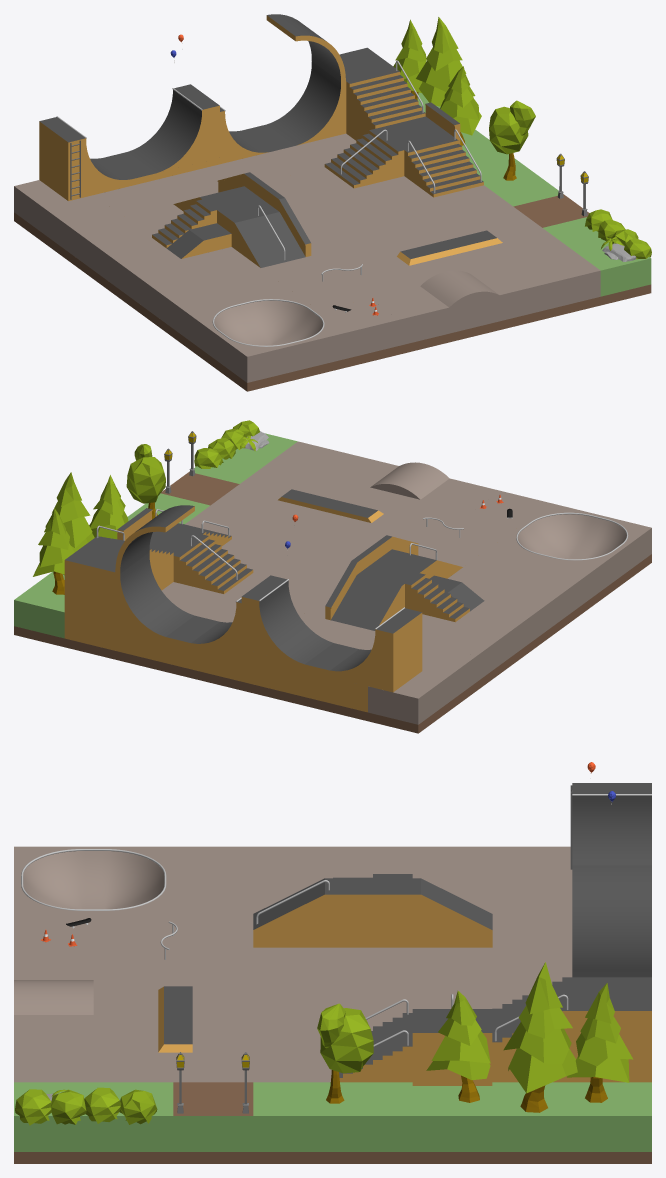
File: Skatepark.fbx
The picture shows the model from 3 angles, top to bottom: view 1: azimuth 30°, elevation 25°; view 2: azimuth 150°, elevation 25°; view 3: azimuth 270°, elevation 25°; orthographic projection. The views are drawn at different scales.
Visible parts, largest first — view 1: Cube, Skate_Box_01 (×3), Skate_Quarter_Pipe_w_Back_Rail_01 (1), Skate_Quarter_Pipe_w_Back_01, Skate_Stairs_Handrail_Double_01, Skate_Stairs_Handrail_Right_01, Skate_Block_Wave_Low_01, Skate_Stairs_Handrail_Middle_01, Skate_Wedge_Handrail_Middle_01, Skate_Box_01 (61), Skate_Box_01 (52), Skate_Box_01 (60) (+55 smaller); view 2: Cube, Skate_Quarter_Pipe_w_Back_Rail_01 (1), Skate_Box_01 (2), Skate_Box_01 (×3), Skate_Quarter_Pipe_w_Back_01, Skate_Wedge_Slide_Rail_01, Skate_Stairs_Handrail_Middle_01, Skate_Box_01 (36), Skate_Bowl_Corner_Rail_01 (1), Skate_Quarter_Pipe_w_Back_Rail_01 (×2), Skate_Box_01 (5), Skate_Stairs_w_Wedge_Half_01 (+58 smaller); view 3: Skate_Loop_Quarter_01, Skate_Box_01 (2) (×2), Cube, Skate_Box_01 (×3), Skate_Quarter_Pipe_w_Back_Rail_01, Skate_Box_01 (48), Skate_Box_01 (47), Skate_Box_01 (45), Vegetation_Modular_Tree_Foliage_Alpine_01 (1), Skate_Box_01 (51), Skate_Box_01 (46), Skate_Box_01 (49) (+55 smaller).
Part boxes in pixels (x1,y1,x2,y2): Cube: (14, 212, 651, 391); Skate_Box_01 (×3): (203, 116, 453, 298); Skate_Quarter_Pipe_w_Back_Rail_01 (1): (128, 87, 207, 172); Skate_Quarter_Pipe_w_Back_01: (267, 61, 346, 145); Skate_Stairs_Handrail_Double_01: (404, 129, 483, 197); Skate_Stairs_Handrail_Right_01: (346, 60, 425, 128); Skate_Block_Wave_Low_01: (420, 270, 499, 333); Skate_Stairs_Handrail_Middle_01: (324, 129, 404, 188); Skate_Wedge_Handrail_Middle_01: (231, 205, 305, 267); Skate_Box_01 (61): (471, 261, 550, 321); Skate_Box_01 (52): (370, 286, 449, 345); Skate_Box_01 (60): (521, 249, 600, 308); Cube: (14, 554, 651, 733); Skate_Quarter_Pipe_w_Back_Rail_01 (1): (254, 578, 333, 664); Skate_Box_01 (2): (64, 539, 121, 624); Skate_Box_01 (×3): (149, 500, 470, 583); Skate_Quarter_Pipe_w_Back_01: (115, 552, 194, 636); Skate_Wedge_Slide_Rail_01: (325, 558, 404, 630); Skate_Stairs_Handrail_Middle_01: (173, 534, 253, 593); Skate_Box_01 (36): (368, 671, 447, 724); Skate_Bowl_Corner_Rail_01 (1): (522, 503, 600, 559); Skate_Quarter_Pipe_w_Back_Rail_01 (×2): (191, 597, 409, 682); Skate_Box_01 (5): (380, 609, 422, 685); Skate_Stairs_w_Wedge_Half_01: (405, 573, 484, 622); Skate_Loop_Quarter_01: (572, 865, 651, 977); Skate_Box_01 (2) (×2): (253, 947, 651, 1082); Cube: (14, 1152, 651, 1163); Skate_Box_01 (×3): (93, 878, 492, 1028); Skate_Quarter_Pipe_w_Back_Rail_01: (572, 791, 651, 865); Skate_Box_01 (48): (253, 1082, 332, 1151); Skate_Box_01 (47): (173, 1082, 253, 1151); Skate_Box_01 (45): (333, 1082, 412, 1151); Vegetation_Modular_Tree_Foliage_Alpine_01 (1): (503, 962, 577, 1093); Skate_Box_01 (51): (572, 1082, 651, 1151); Skate_Box_01 (46): (412, 1086, 492, 1151); Skate_Box_01 (49): (492, 1082, 572, 1151).
Bounding box in the file's own units: 24.7 × 9.49 × 24.
